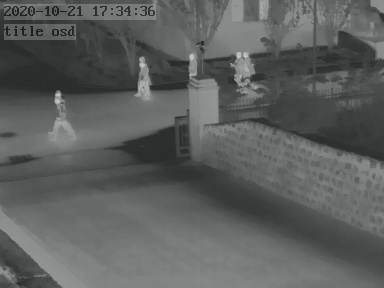person: (49, 90, 77, 143), (134, 57, 153, 102), (231, 49, 249, 86), (187, 53, 198, 80)
